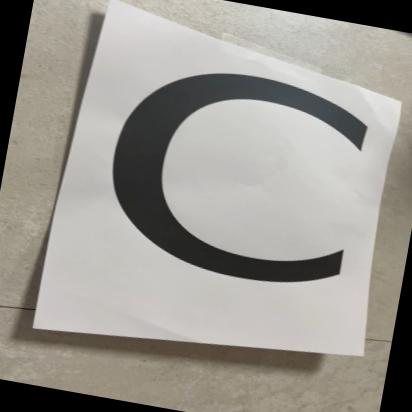seat: (43, 0, 412, 380)
